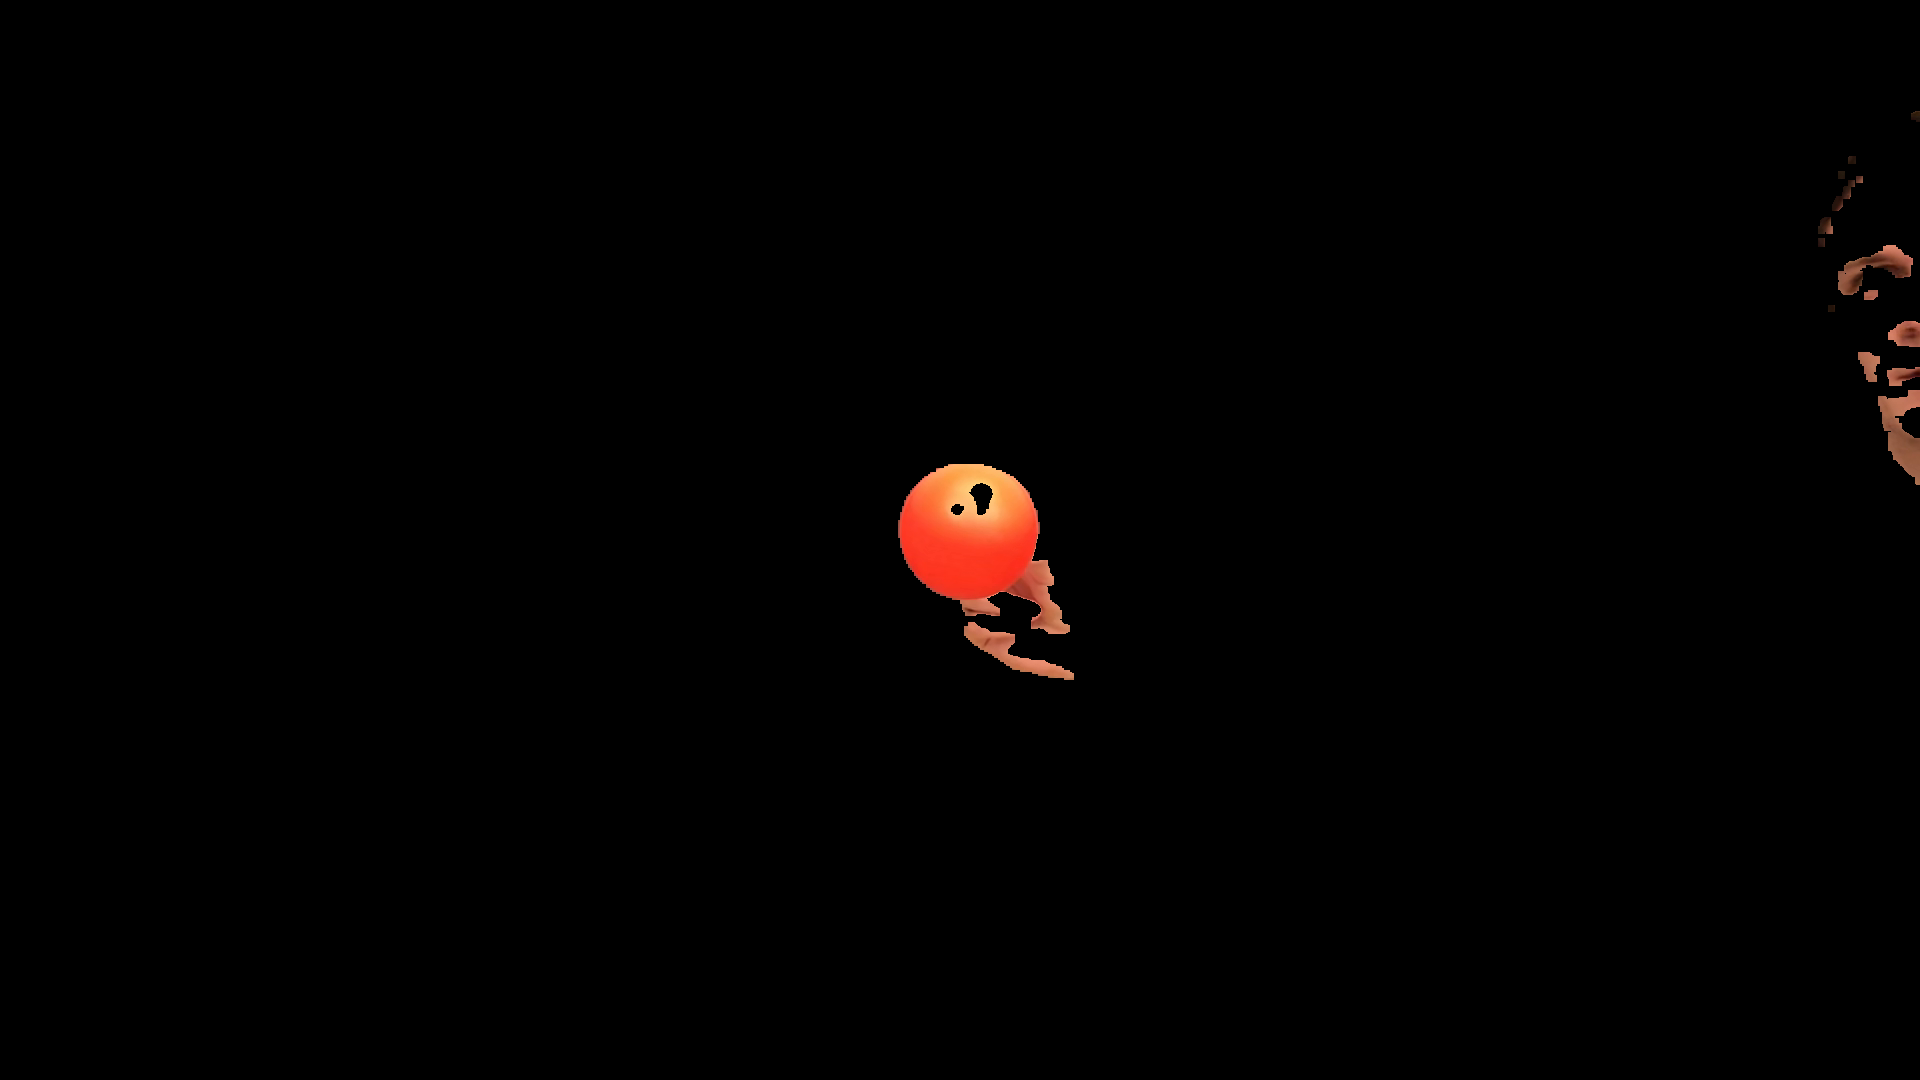Ball: (905, 454, 1042, 607)
